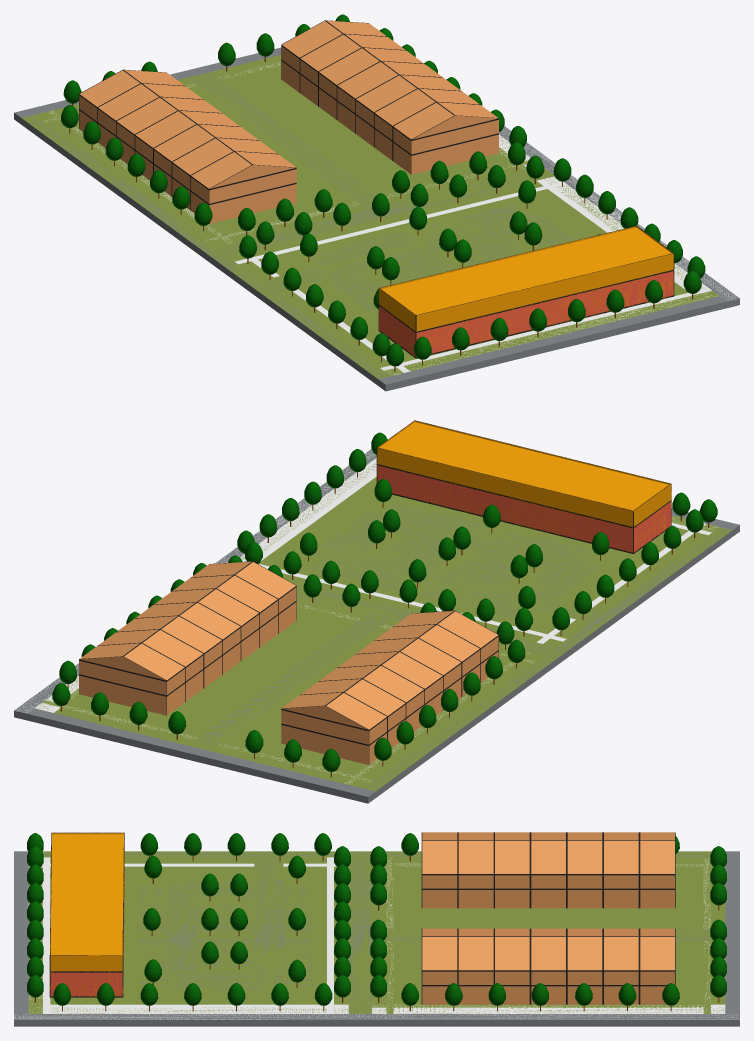
Rendered from 225_townhome_commercial_B1.dae.
The picture shows the model from 3 angles, top to bottom: view 1: azimuth 30°, elevation 25°; view 2: azimuth 150°, elevation 25°; view 3: azimuth 270°, elevation 25°; orthographic projection. The views are drawn at different scales.
Parts seen in each view (by area): view 1: group_2 (×18), Component_2 (×22), _10k_Commercial_1 (×6); view 2: group_2 (×16), _10k_Commercial_1 (×6), Component_2 (×22); view 3: group_2 (×18), Component_2 (×54), _10k_Commercial_1 (×4).
Part boxes in pixels (x1,y1,x2,y2): group_2 (×18): (14,47,739,391); Component_2 (×22): (80,21,498,223); _10k_Commercial_1 (×6): (378,226,674,358); group_2 (×16): (14,439,739,803); _10k_Commercial_1 (×6): (376,420,671,553); Component_2 (×22): (79,562,497,764); group_2 (×18): (14,851,739,1026); Component_2 (×54): (421,832,675,1004); _10k_Commercial_1 (×4): (49,832,124,997).
Size of the model in its own units: 53.63 by 97.5 by 8.
